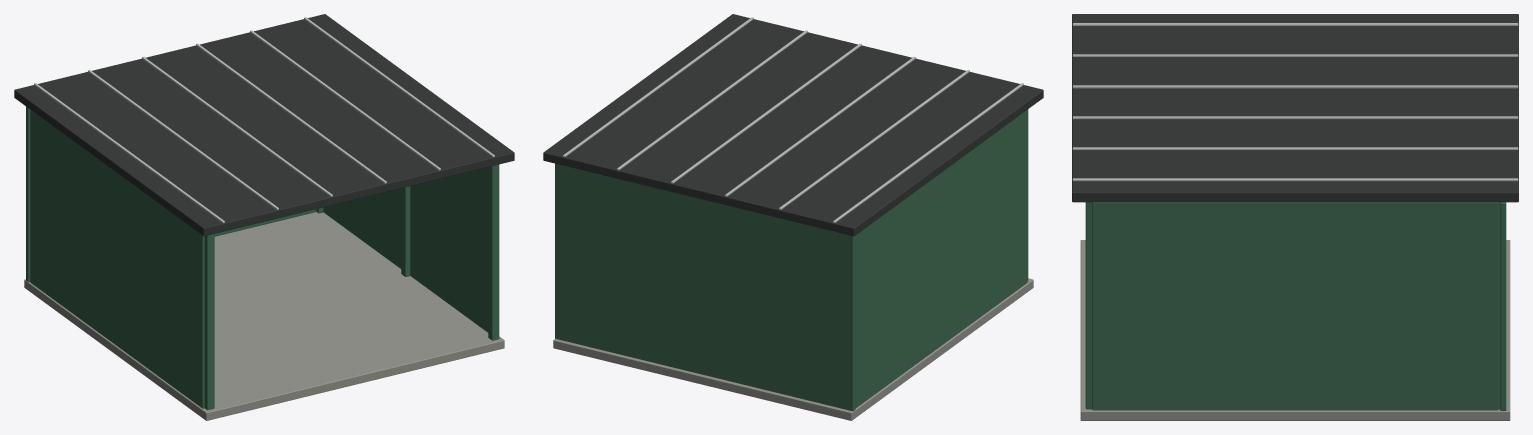
The model's file is sawmill-and-timber-yard-covered-timber-store-2f2963b8__31156.glb.
3 renders of one model, left to right at view 1: azimuth 30°, elevation 25°; view 2: azimuth 150°, elevation 25°; view 3: azimuth 270°, elevation 25°, orthographic. The views are drawn at different scales.
Parts seen in each view (by area): view 1: covered-timber-store; view 2: covered-timber-store; view 3: covered-timber-store.
Part boxes in pixels (bbox=[...]): covered-timber-store: bbox=[14, 14, 514, 420]; covered-timber-store: bbox=[543, 14, 1043, 420]; covered-timber-store: bbox=[1072, 14, 1518, 420].
Size of the model in its own units: 5.42 by 3.31 by 5.72.
